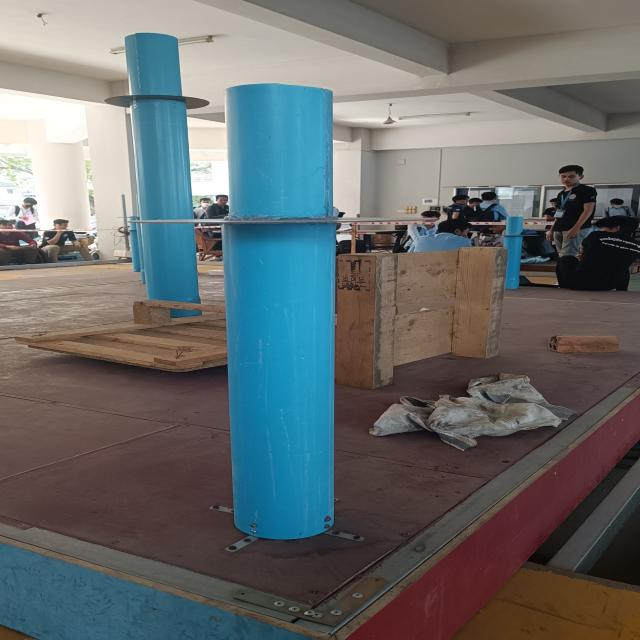pole: (86, 31, 205, 169)
